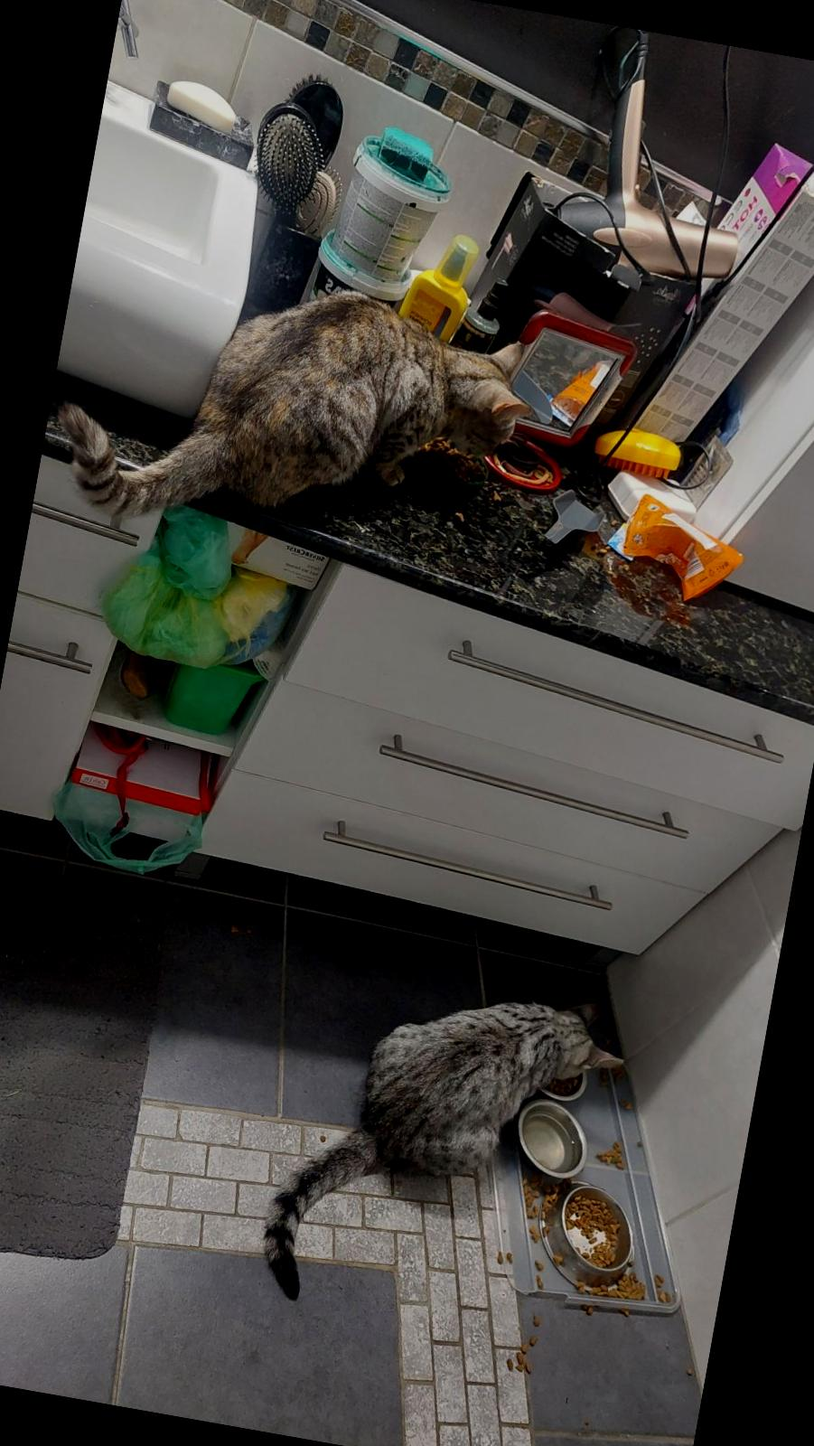macka: (42, 245, 543, 587), (252, 950, 639, 1351)
